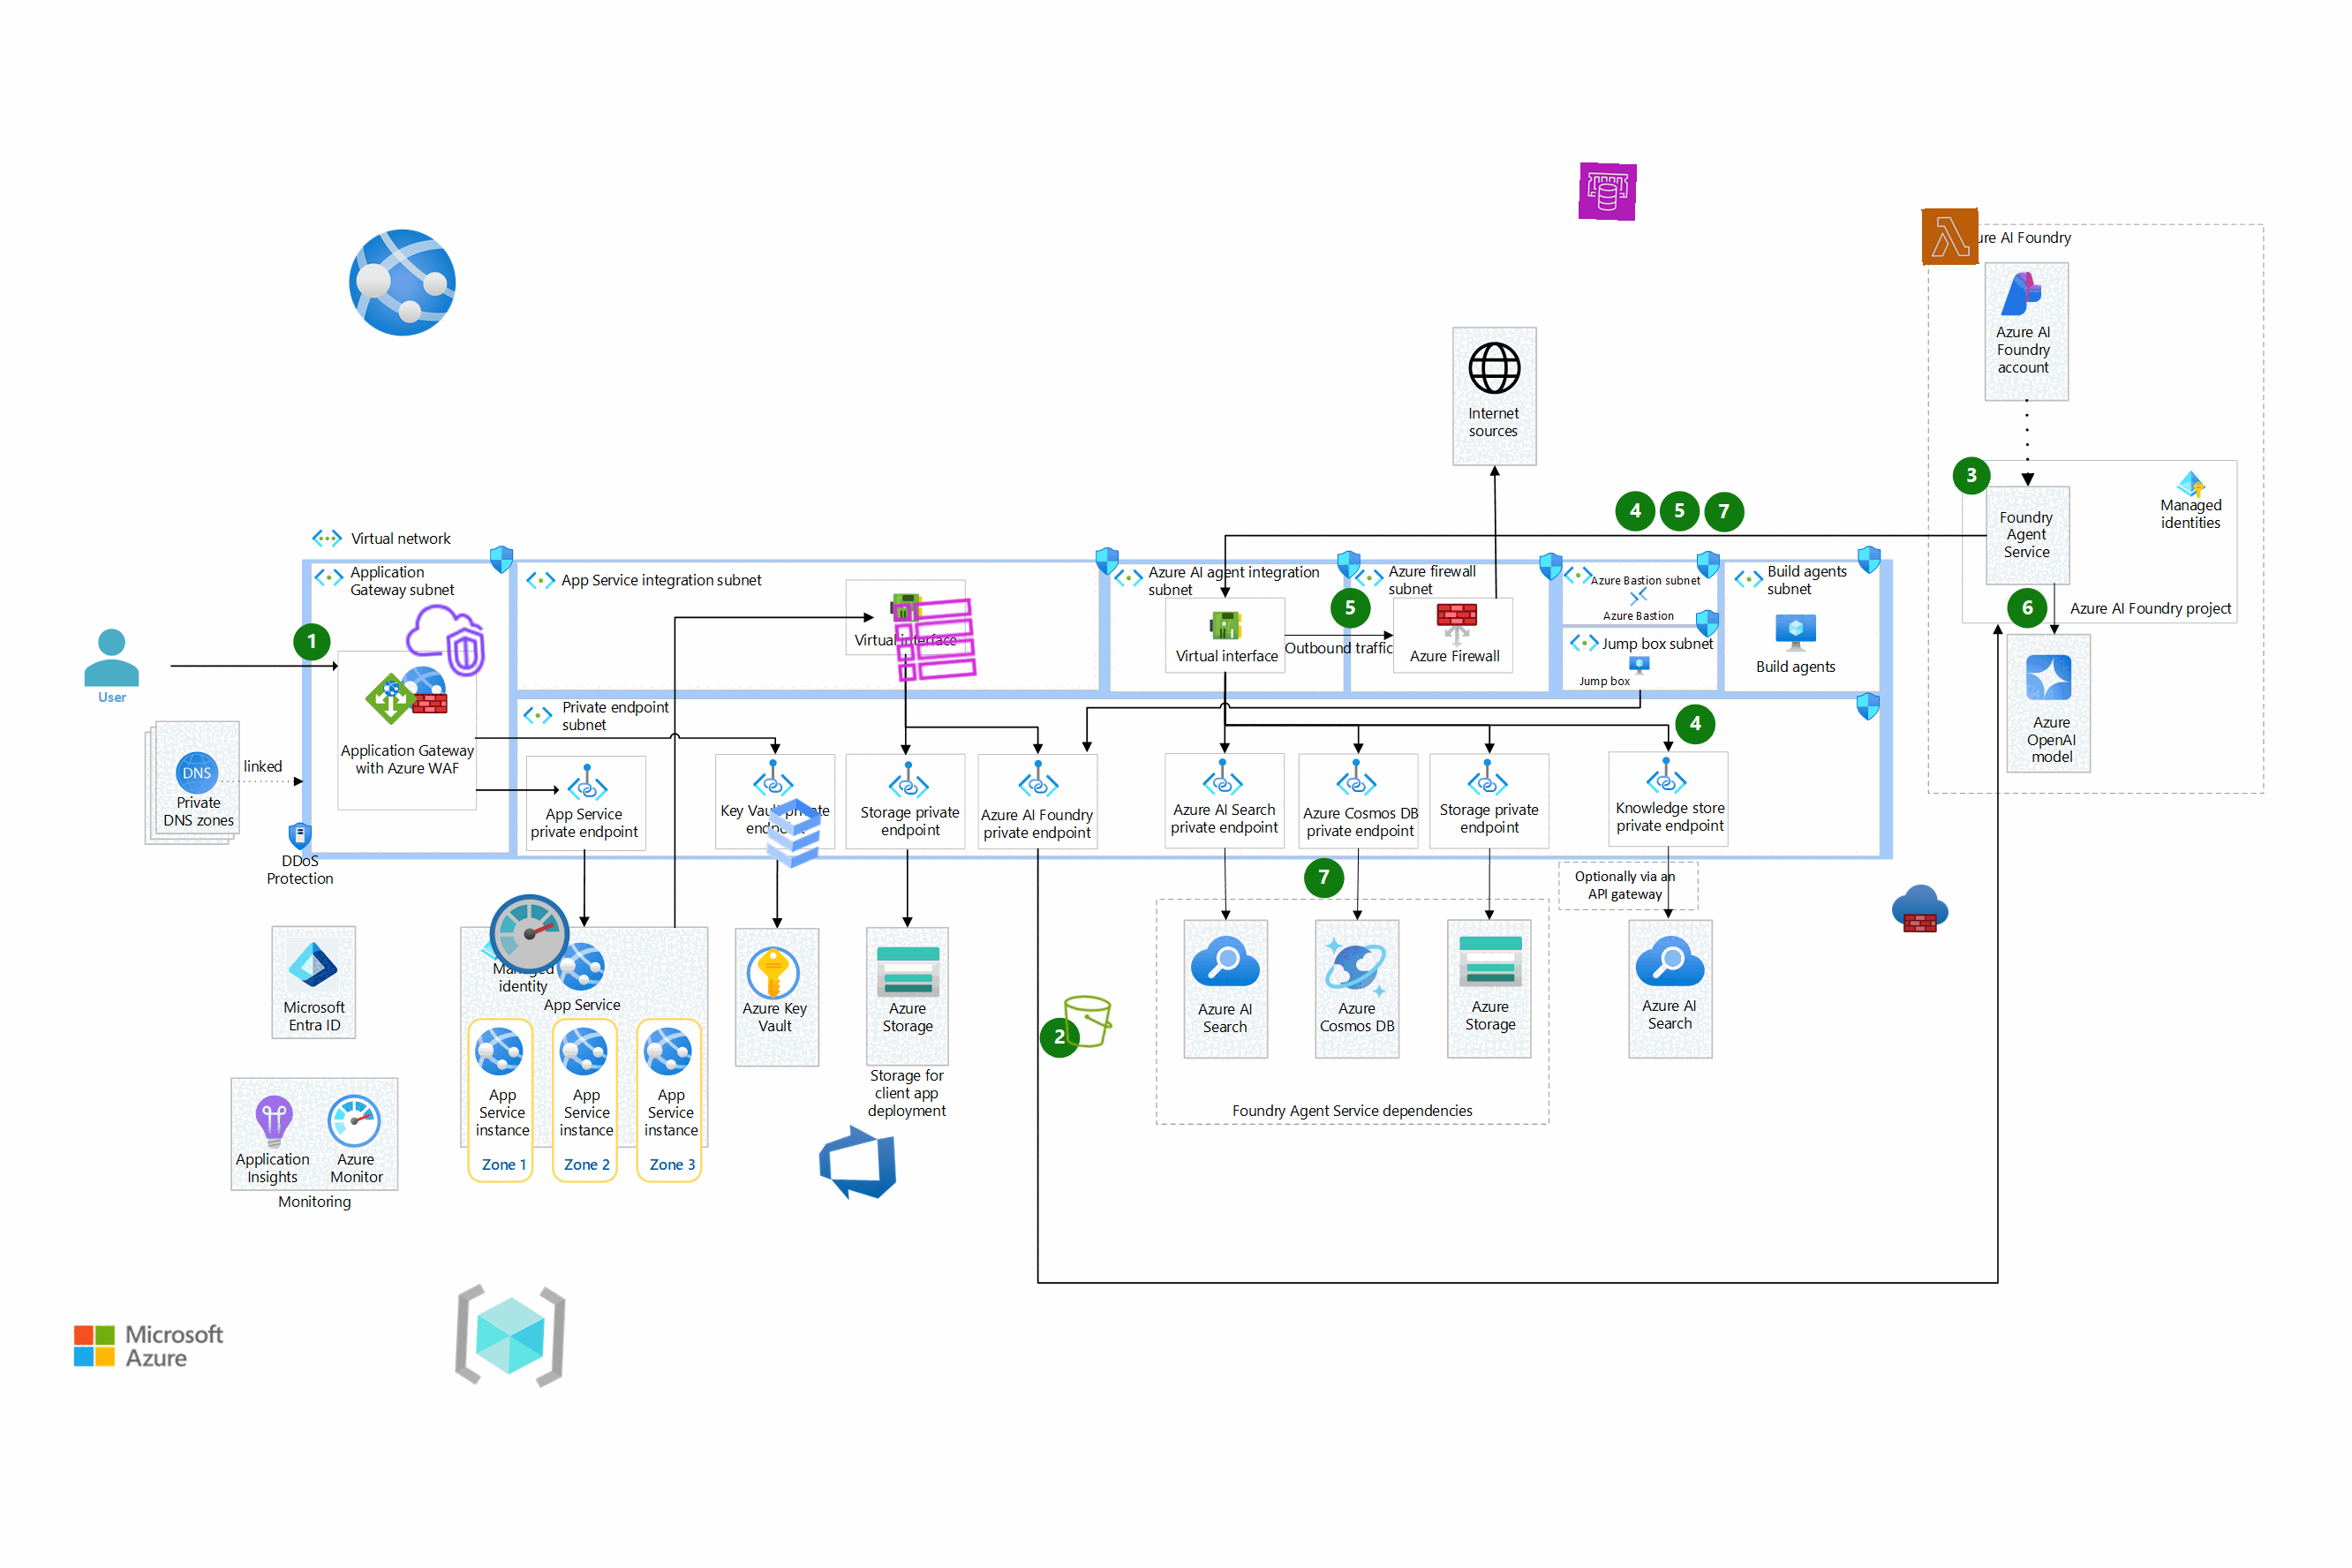aws_amazon_elasticache: (1578, 161, 1638, 222)
aws_dynamodb_table: (889, 595, 982, 686)
aws_lambda: (1922, 208, 1979, 266)
aws_simple_storage_service_s3_standard: (1057, 990, 1118, 1052)
aws_vpc_virtual_private_cloud_vpc: (401, 597, 490, 686)
azure_app_services: (345, 226, 460, 339)
azure_devops: (812, 1116, 903, 1207)
azure_firewalls: (1892, 878, 1950, 938)
azure_monitor: (485, 891, 574, 978)
azure_resource_groups: (451, 1277, 569, 1395)
gcp_cloud_sql: (747, 787, 840, 878)
